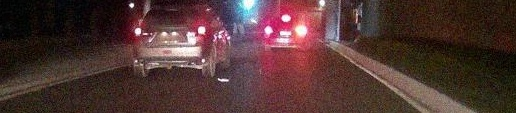L_light: (134, 27, 152, 36), (265, 27, 274, 33)
R_light: (188, 26, 207, 34), (297, 27, 305, 33)
T_light: (167, 9, 180, 13), (282, 16, 291, 19)
night-no: (133, 4, 209, 77)
night-right: (264, 13, 307, 50)
